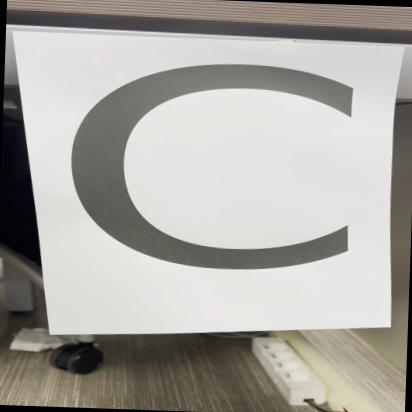seat: (0, 25, 402, 346)
